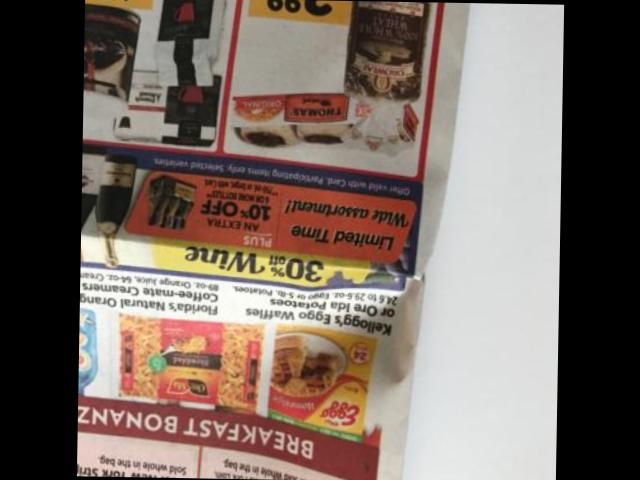cardboard paper: (76, 0, 464, 480)
